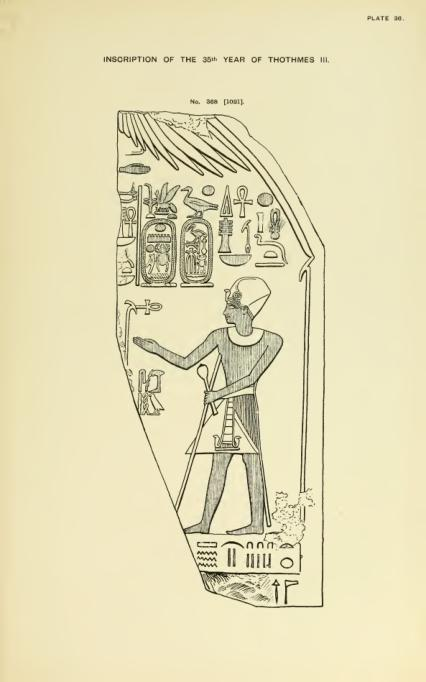circle: (140, 218, 176, 290), (176, 218, 213, 288)
